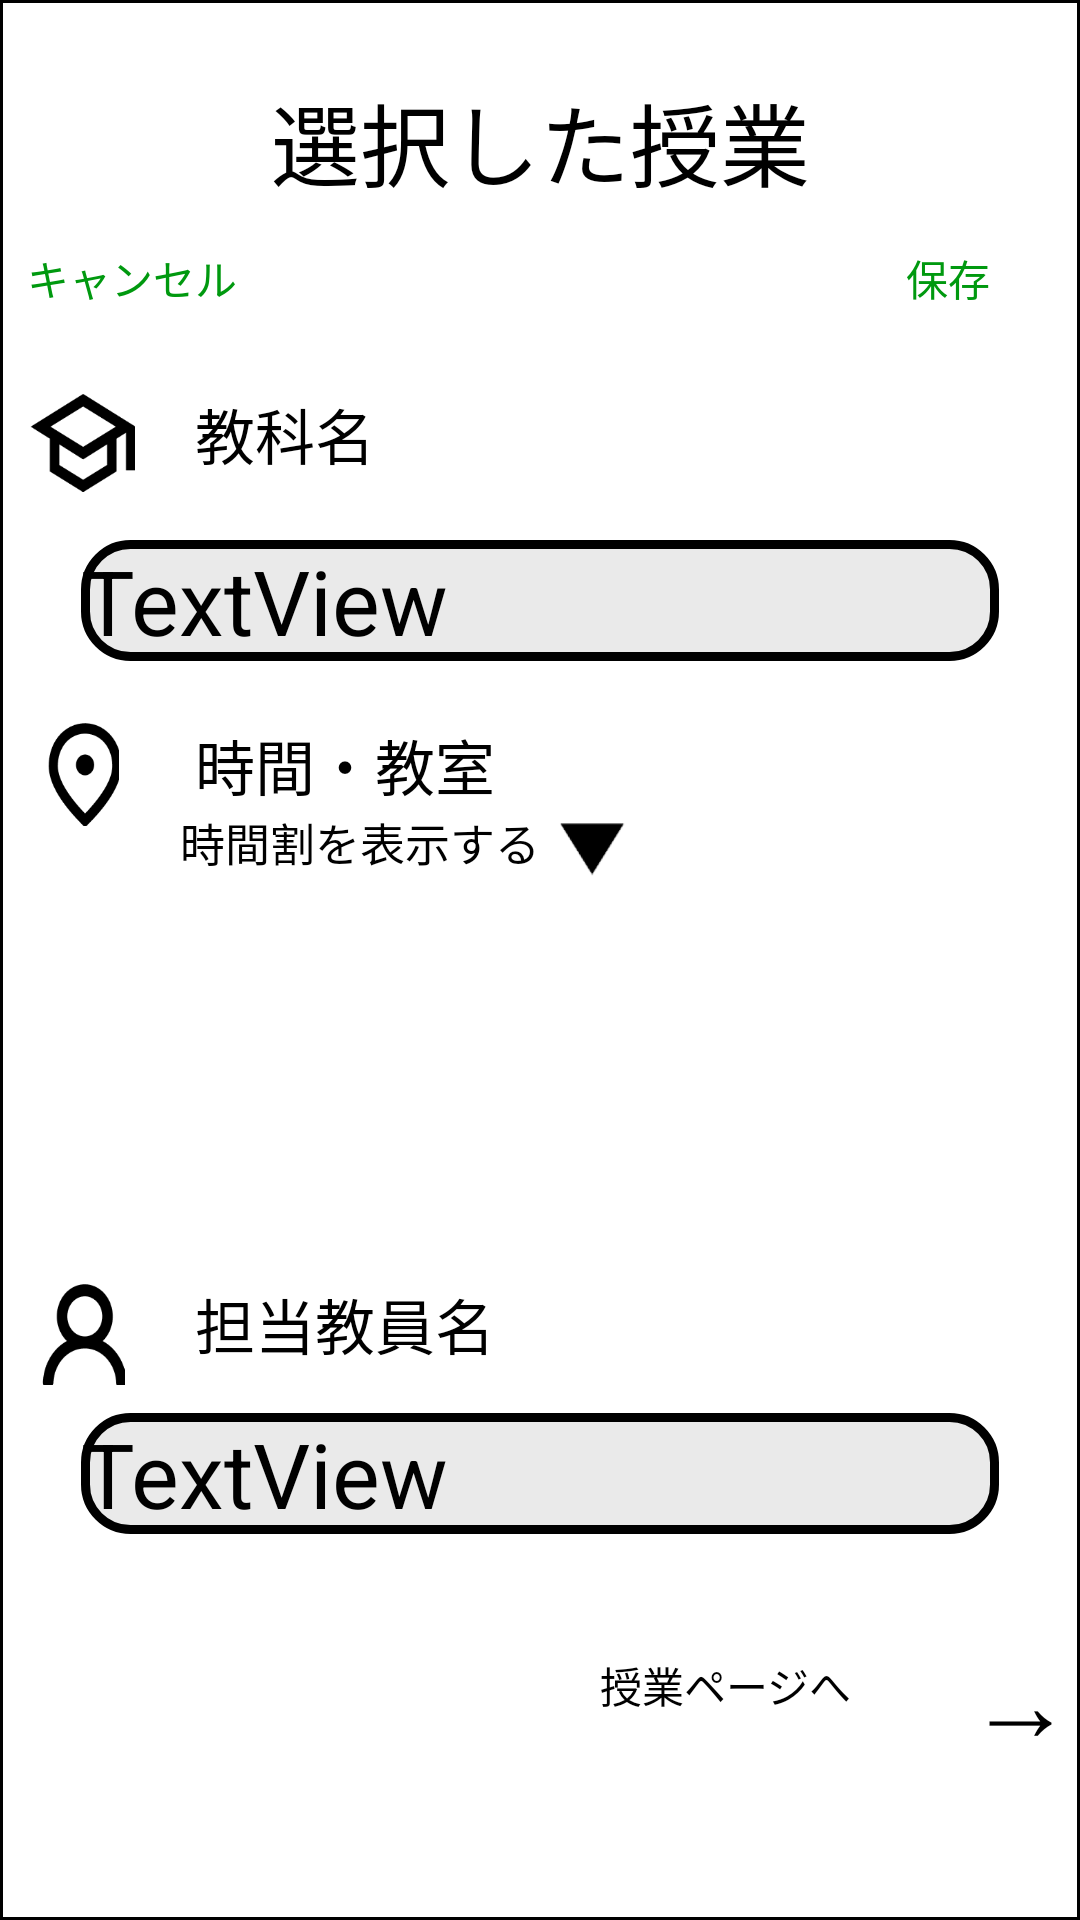

Screen size 1080*1920. Icon name, then its center in pixels as (x=x, y=y):
class name: (x=83, y=443)
class room: (x=83, y=774)
professor name: (x=83, y=1334)
